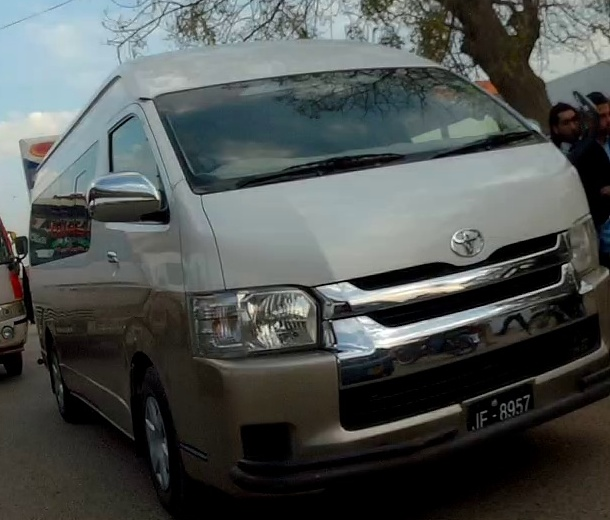van: (28, 39, 610, 520)
